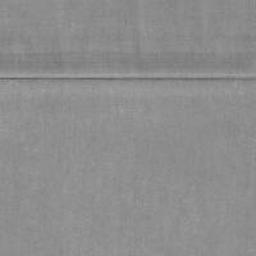Welding line: (0, 76, 256, 82)
